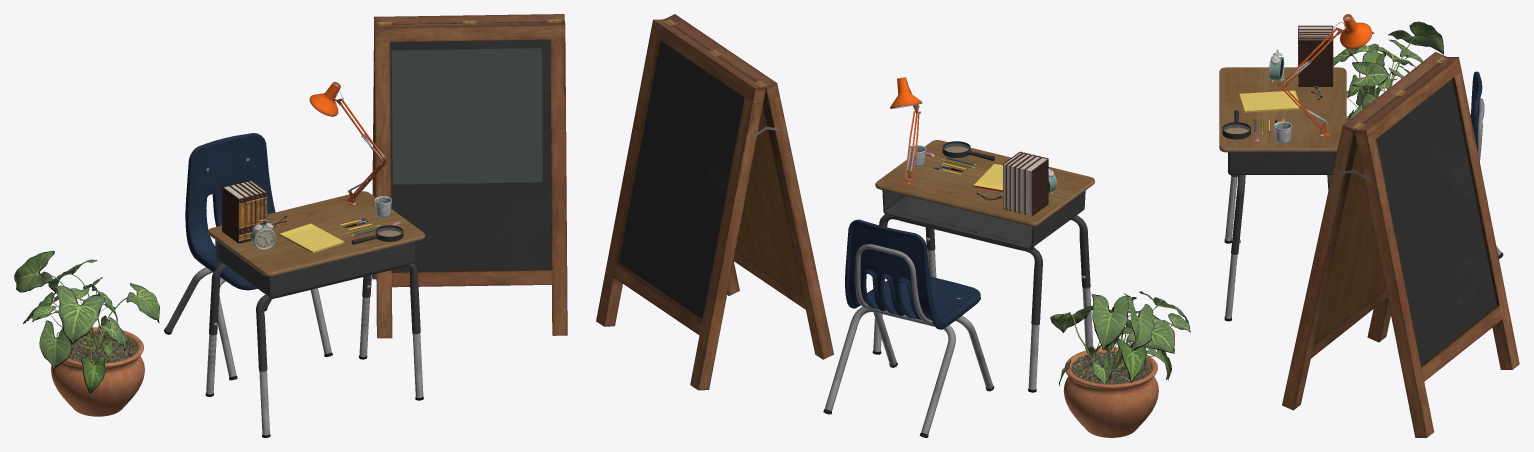
3 renders of one model, left to right at view 1: azimuth 30°, elevation 25°; view 2: azimuth 150°, elevation 25°; view 3: azimuth 270°, elevation 25°, orthographic. The views are drawn at different scales.
Parts seen in each view (by area): view 1: standing_chalkboard_01, ecran_tableau, SchoolDesk_01, SchoolChair_01, potted_plant_02_leaves, potted_plant_02_pot, desk_lamp_arm_01, potted_plant_02_dirt, book_encyclopedia_set_01_book01, office_notepads_yellow_pad, alarm_clock_01, magnifying_glass_01; view 2: standing_chalkboard_01, SchoolDesk_01, SchoolChair_01, potted_plant_02_leaves, potted_plant_02_pot, potted_plant_02_dirt, book_encyclopedia_set_01_book01, desk_lamp_arm_01; view 3: standing_chalkboard_01, SchoolDesk_01, potted_plant_02_leaves, desk_lamp_arm_01, book_encyclopedia_set_01_book06, office_notepads_yellow_pad, SchoolChair_01, magnifying_glass_01, alarm_clock_01, stationery_supplies_pencilcup.
Boxes of the visible parts, box(x1,y1,x2,y2) form: standing_chalkboard_01: box(372, 14, 567, 338); ecran_tableau: box(391, 48, 542, 184); SchoolDesk_01: box(205, 191, 425, 437); SchoolChair_01: box(164, 133, 332, 380); potted_plant_02_leaves: box(14, 250, 159, 393); potted_plant_02_pot: box(51, 327, 144, 416); desk_lamp_arm_01: box(309, 81, 388, 205); potted_plant_02_dirt: box(68, 330, 137, 363); book_encyclopedia_set_01_book01: box(222, 185, 245, 243); office_notepads_yellow_pad: box(279, 223, 344, 253); alarm_clock_01: box(251, 219, 275, 249); magnifying_glass_01: box(351, 225, 403, 244); standing_chalkboard_01: box(596, 14, 833, 390); SchoolDesk_01: box(872, 140, 1094, 392); SchoolChair_01: box(823, 219, 994, 437); potted_plant_02_leaves: box(1050, 291, 1190, 386); potted_plant_02_pot: box(1063, 347, 1158, 437); potted_plant_02_dirt: box(1071, 351, 1151, 384); book_encyclopedia_set_01_book01: box(1025, 157, 1048, 216); desk_lamp_arm_01: box(890, 77, 922, 184); standing_chalkboard_01: box(1282, 52, 1519, 437); SchoolDesk_01: box(1219, 67, 1346, 321); potted_plant_02_leaves: box(1333, 21, 1443, 121); desk_lamp_arm_01: box(1277, 14, 1372, 136); book_encyclopedia_set_01_book06: box(1298, 38, 1333, 86); office_notepads_yellow_pad: box(1239, 90, 1300, 112); SchoolChair_01: box(1470, 71, 1503, 258); magnifying_glass_01: box(1222, 110, 1250, 139); alarm_clock_01: box(1269, 49, 1284, 81); stationery_supplies_pencilcup: box(1274, 121, 1291, 143).
Size of the model in its own units: 3.09 by 1.51 by 1.39.
17 materials, 15 textured.
